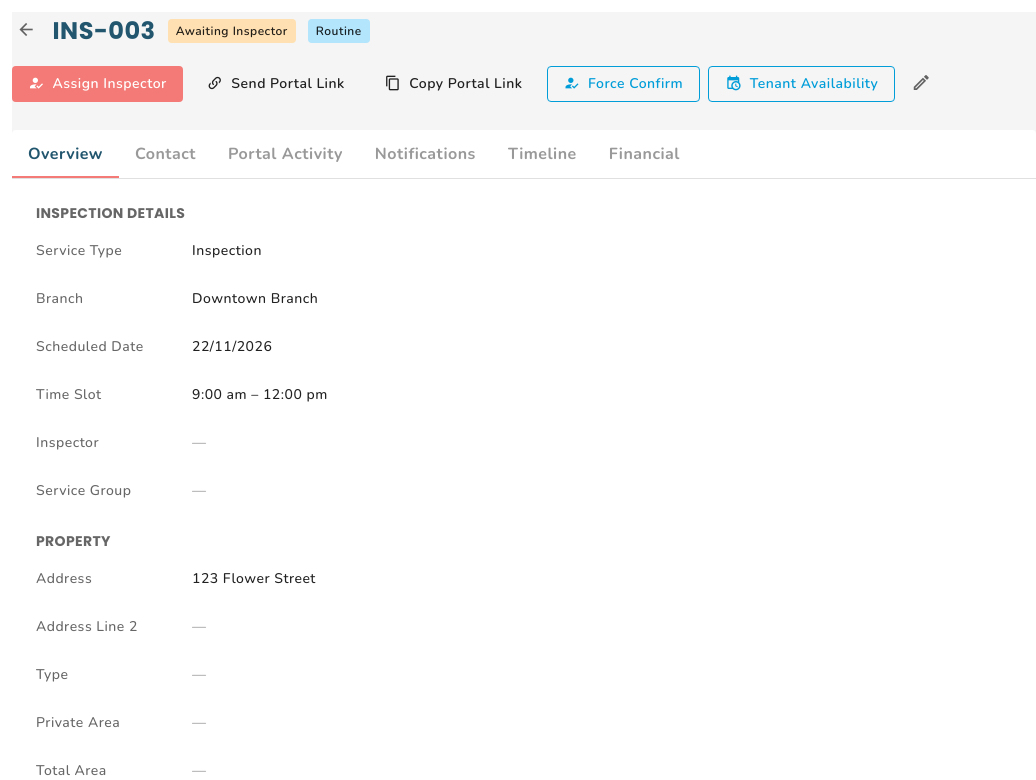
AppointmentDetailPage — agency blocks tenant notifications › explains the 409 when the flag was flipped while the page was open
Click the button with test id "send-portal-link-button". click: (276, 84)
box: x1=191 y1=66 x2=361 y2=102
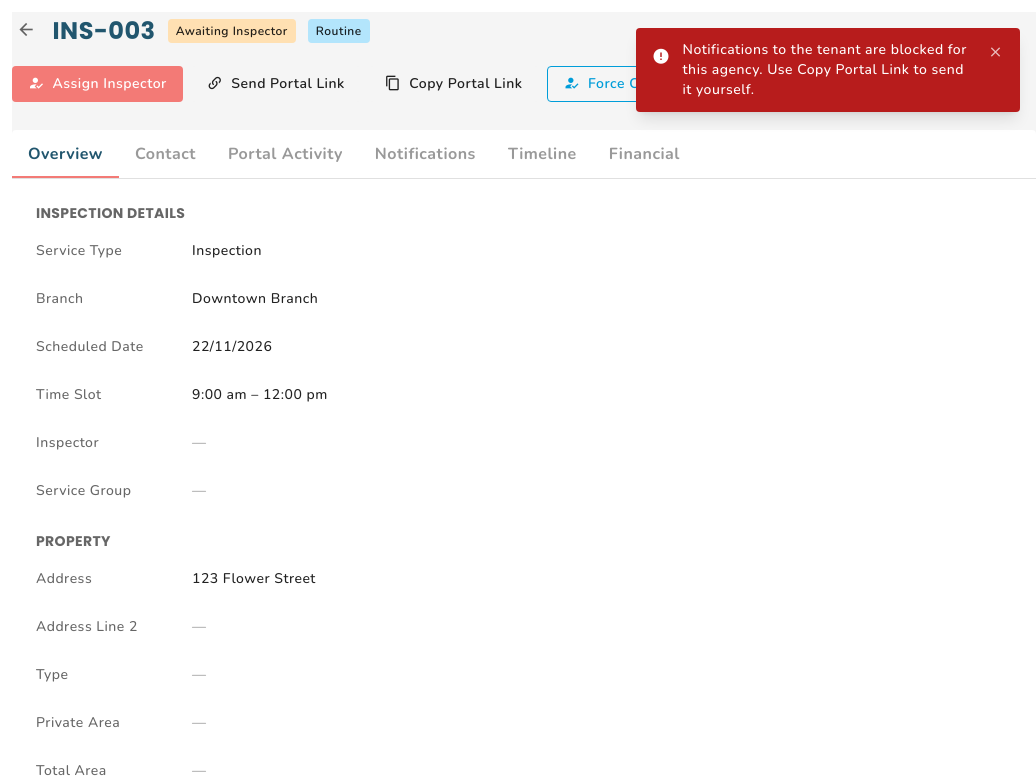
Expected: the text "Notifications to the tenant are blocked for this agency" is shown, x1=682 y1=40 x2=967 y2=99
